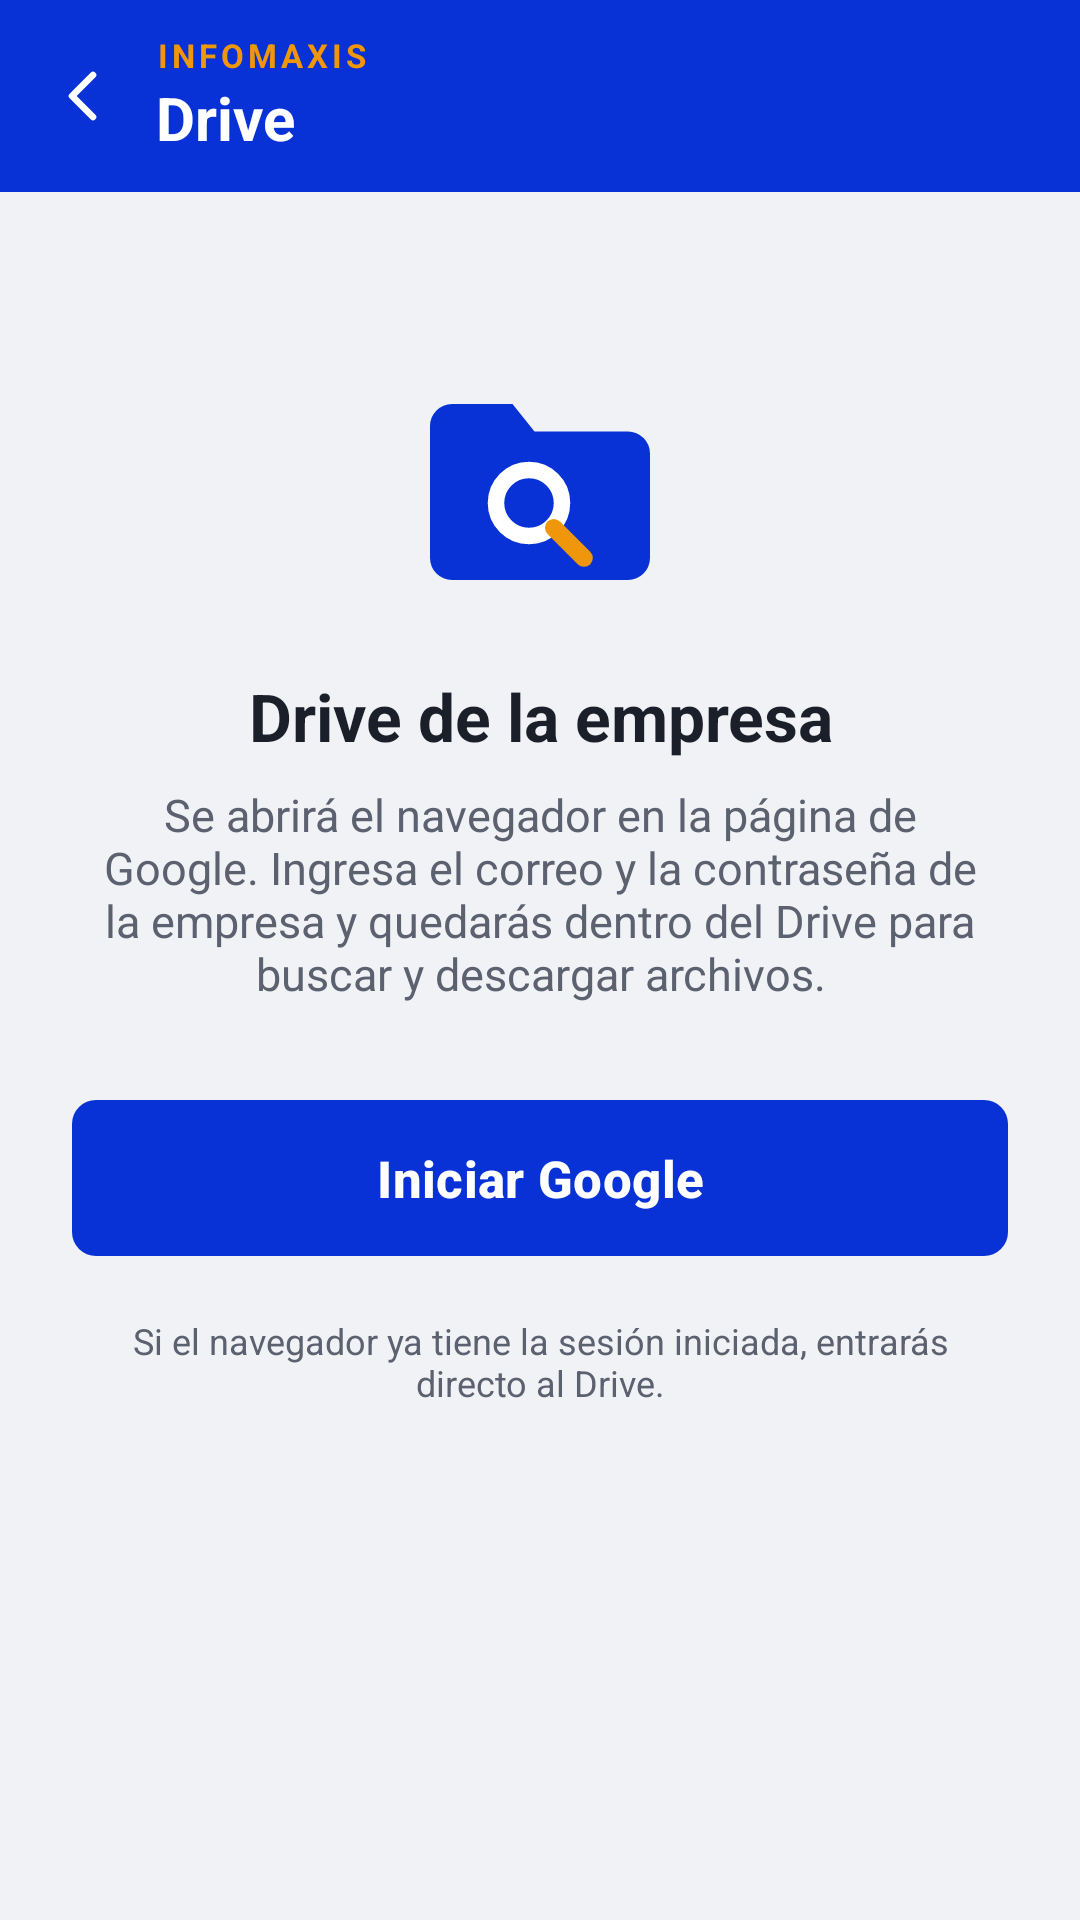

Icon bounding boxes for this 1080×1920 phone screenshot, format (x1, y1, x2, y2):
Volver: (68, 71, 97, 121)
